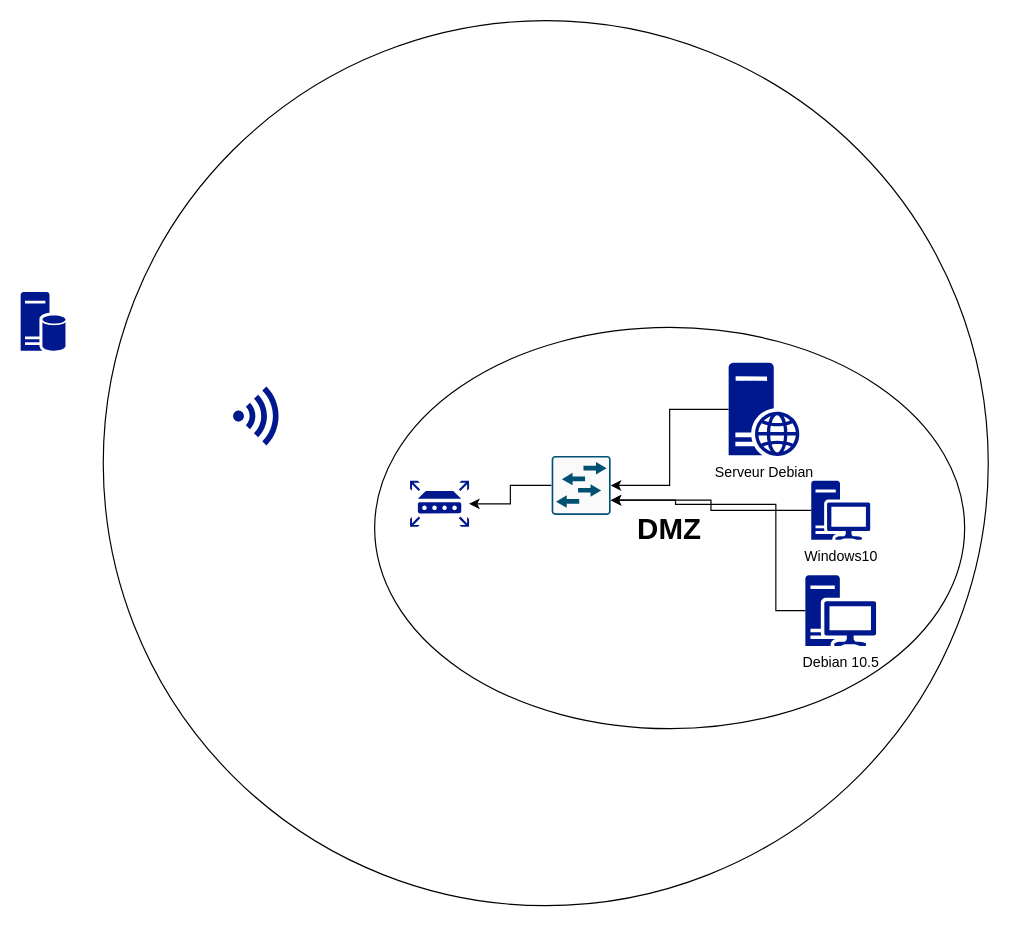
The diagram is 1009 pixels wide and 926 high, and some of its shapes have lost their labels. The centre of each missing label's shape, as x and y in pixels:
Routeur: point (438, 503)
Switch: point (580, 485)
